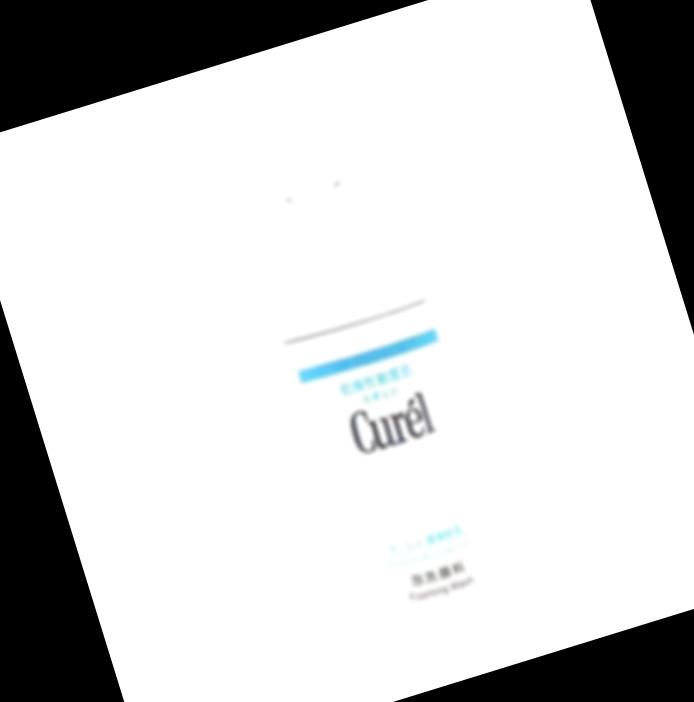cosmetic: (172, 59, 563, 685)
